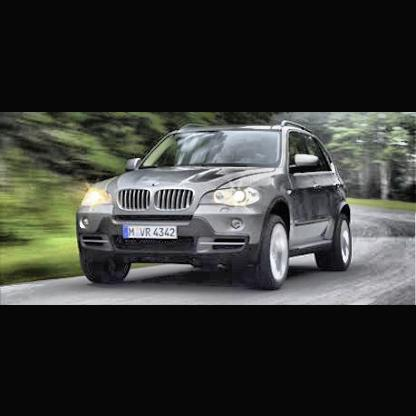BMW X5 SUV 2007: (67, 113, 374, 302)
